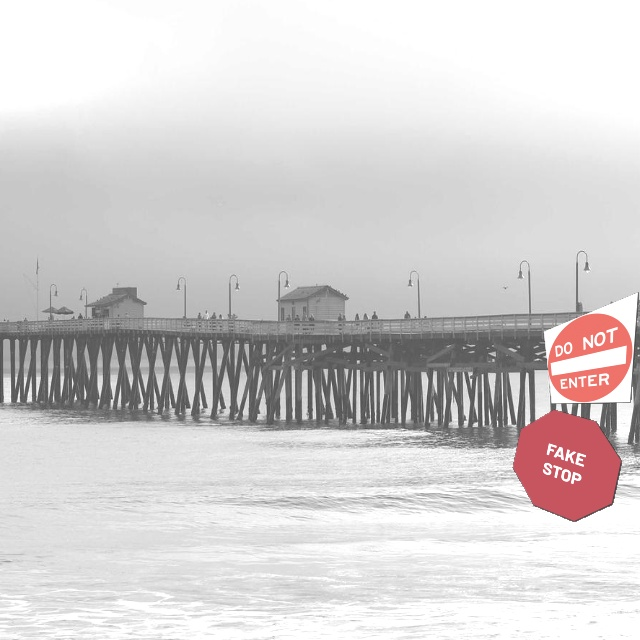DO_NOT_ENTER: (543, 291, 639, 404)
FAKE_STOP: (512, 409, 622, 522)
